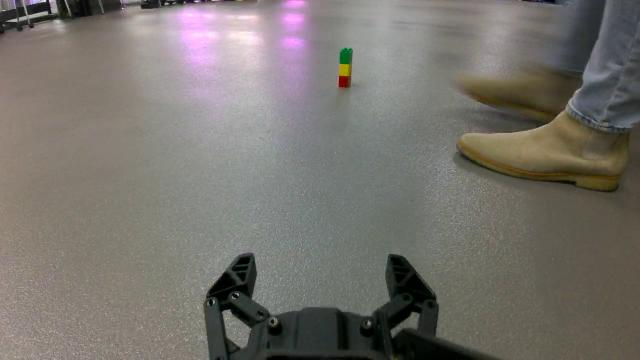lego: (338, 46, 353, 88)
